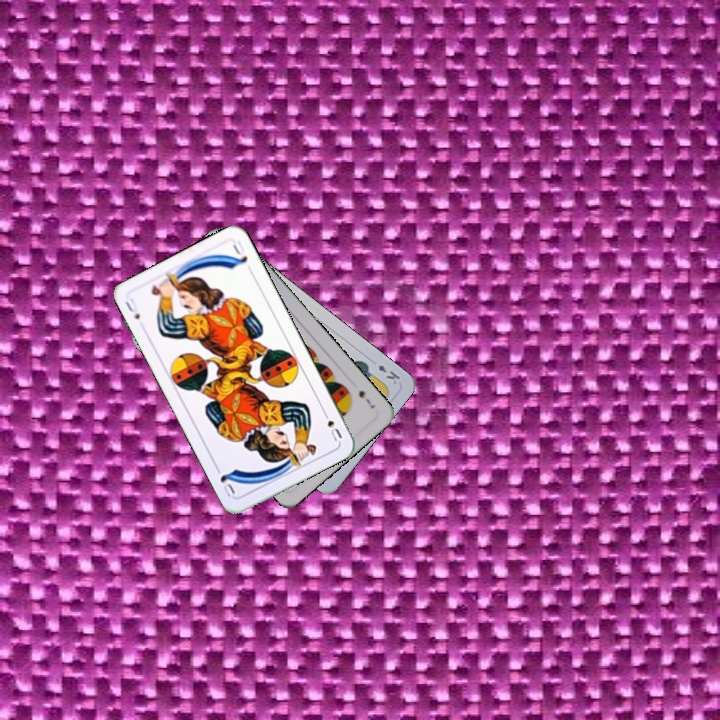EK: (373, 361, 403, 387)
S7: (355, 386, 377, 411)
SU: (318, 406, 345, 444), (121, 294, 143, 322)
